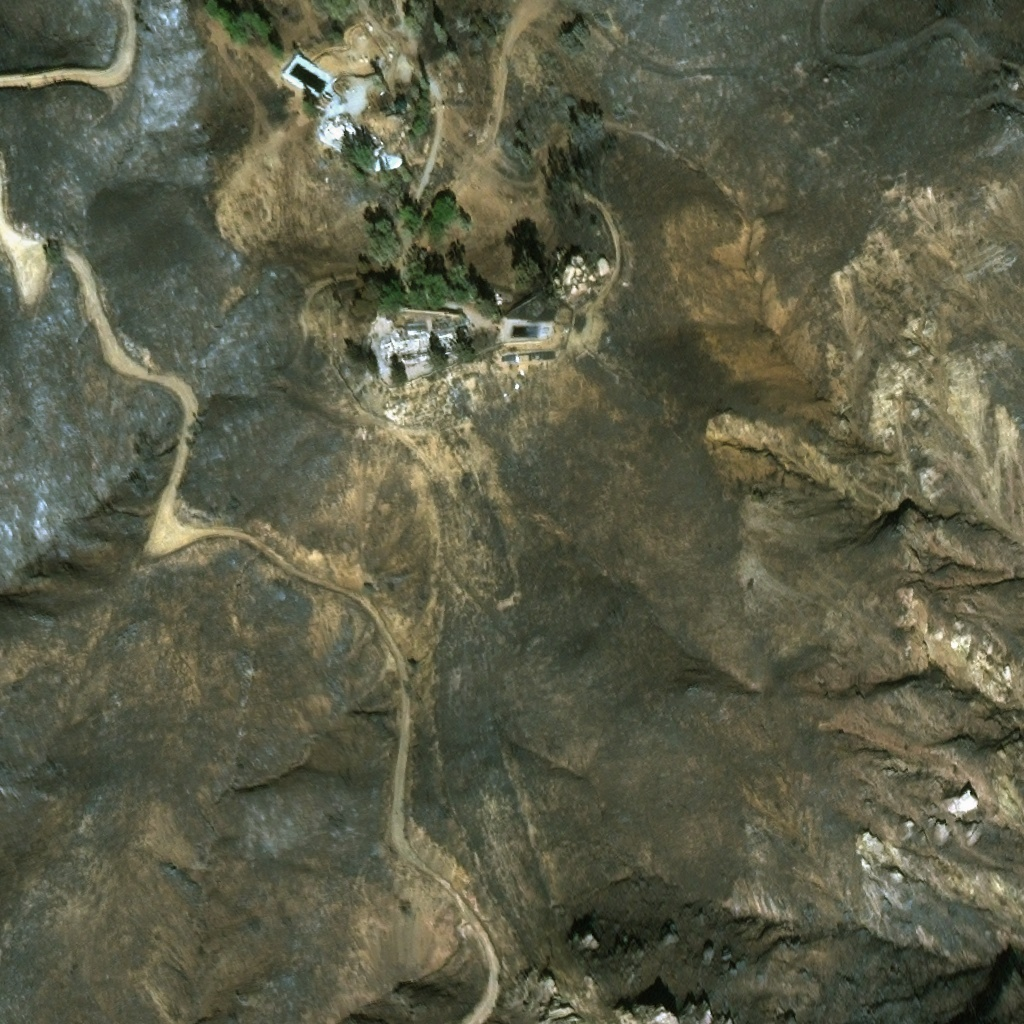0 no-damage: (322, 111, 384, 163)
1 minor-damage: (961, 800, 977, 816)
3 destroyed: (379, 329, 473, 371), (528, 300, 546, 318), (486, 288, 503, 305)
